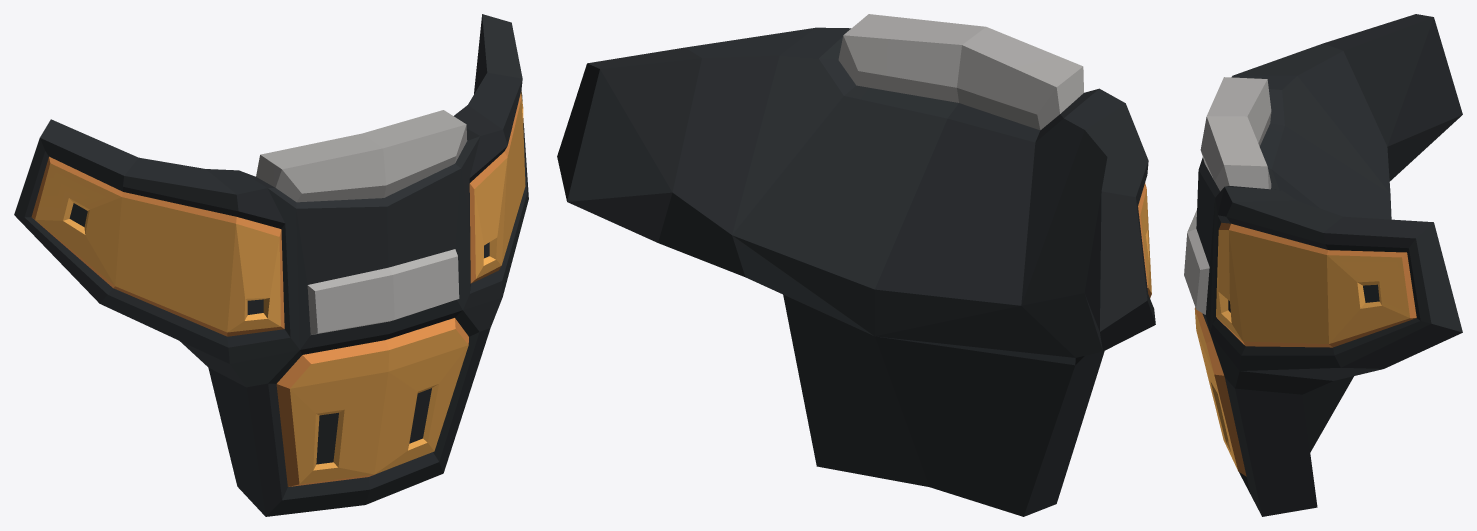
Rendered from worlds_SM_Chr_Attach_ChestPlate_01.gltf.
The picture shows the model from 3 angles, left to right: view 1: azimuth 30°, elevation 25°; view 2: azimuth 150°, elevation 25°; view 3: azimuth 270°, elevation 25°; orthographic projection. The views are drawn at different scales.
Visible parts, largest first — view 1: SM_Chr_Attach_ChestPlate_01; view 2: SM_Chr_Attach_ChestPlate_01; view 3: SM_Chr_Attach_ChestPlate_01.
Boxes of the visible parts, <box> form: SM_Chr_Attach_ChestPlate_01: <box>14,14,528,516</box>; SM_Chr_Attach_ChestPlate_01: <box>557,14,1155,516</box>; SM_Chr_Attach_ChestPlate_01: <box>1184,14,1462,516</box>.
Size of the model in its own units: 0.3939 by 0.2741 by 0.1923.
1 material, 1 textured.
